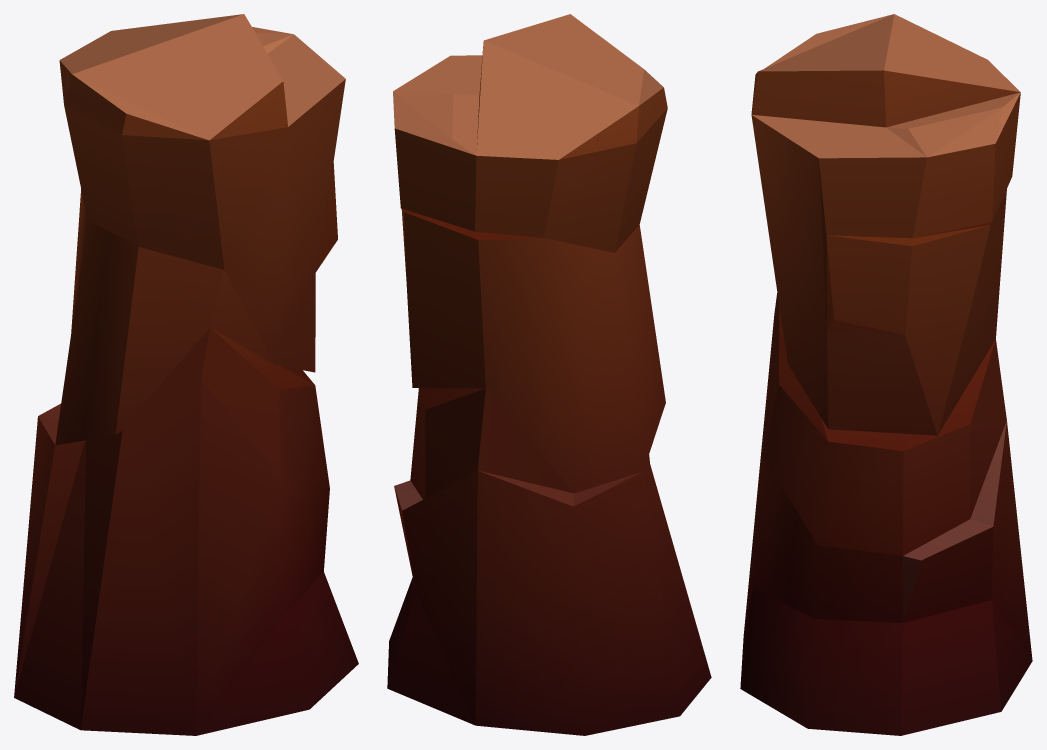
File: cliff5.fbx
The picture shows the model from 3 angles, left to right: view 1: azimuth 30°, elevation 25°; view 2: azimuth 150°, elevation 25°; view 3: azimuth 270°, elevation 25°; orthographic projection. The views are drawn at different scales.
Parts seen in each view (by area): view 1: cliff.004; view 2: cliff.004; view 3: cliff.004.
Boxes of the visible parts, x1,y1,x2,y2 form: cliff.004: (14,14,358,735); cliff.004: (387,14,711,735); cliff.004: (740,14,1032,735).
Bounding box in the file's own units: 7.57 × 15.09 × 6.41.
